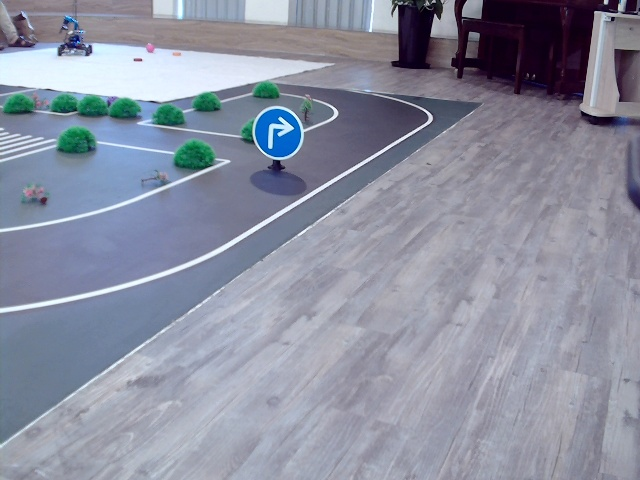turn_right: (260, 115, 293, 147)
